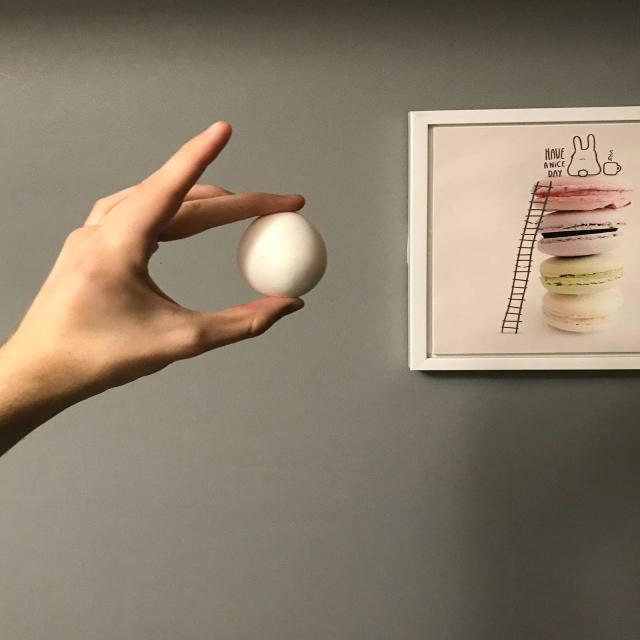egg: (236, 210, 328, 297)
